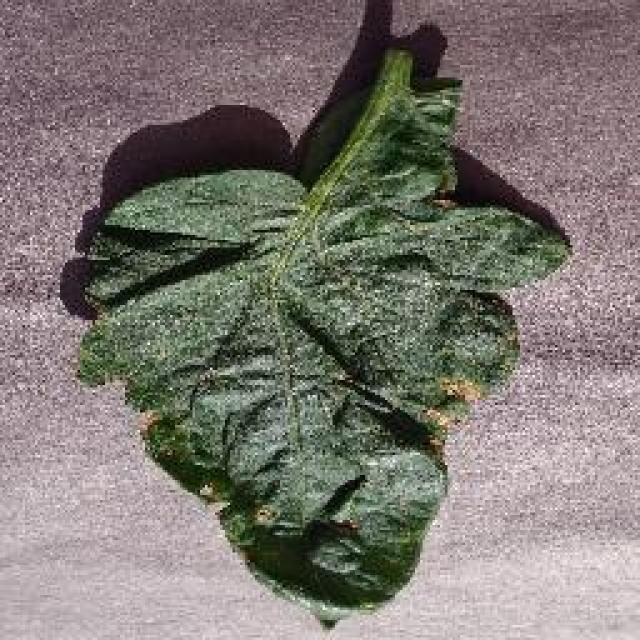Tomato___Target_Spot: (80, 50, 568, 618)
